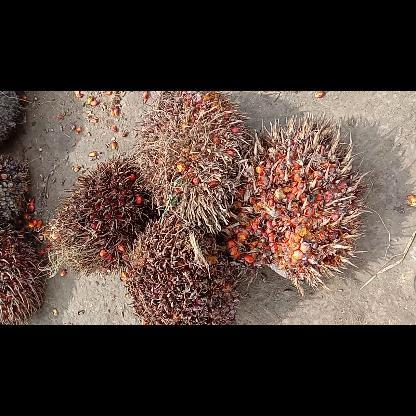Terlalu masak: (227, 112, 369, 296), (133, 90, 251, 233), (38, 152, 156, 276), (127, 214, 238, 324)
